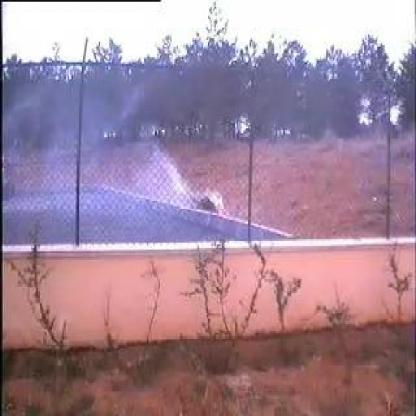-: (41, 84, 206, 238)
